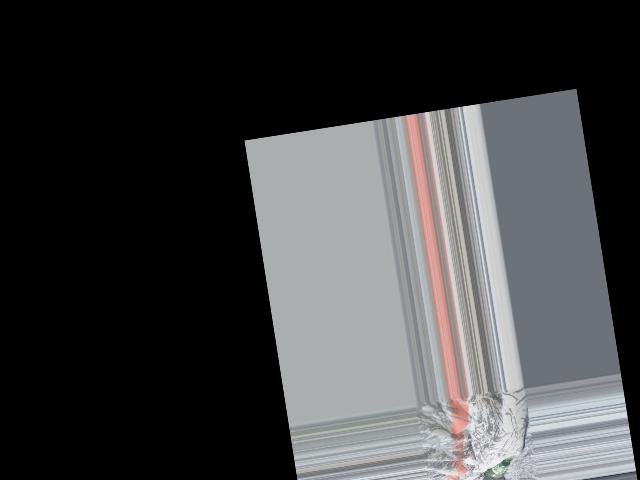beer: (481, 458, 512, 480)
